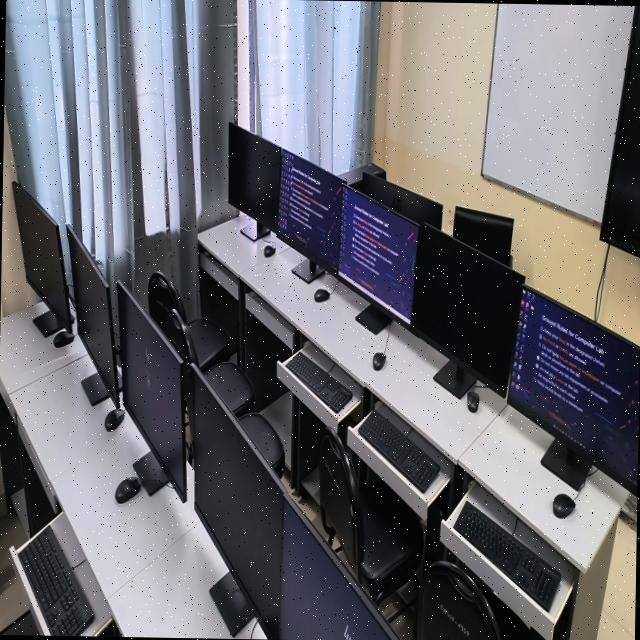Chair: (318, 428, 423, 604), (162, 308, 254, 417), (147, 271, 232, 372), (420, 560, 502, 640), (452, 206, 513, 266), (238, 412, 284, 477)
Digital board: (600, 5, 640, 257)
Keyboard: (453, 500, 559, 610), (18, 526, 93, 636), (359, 409, 439, 492), (286, 351, 352, 413)
Monitor: (68, 227, 186, 500), (507, 288, 640, 490), (188, 367, 282, 639), (407, 223, 525, 396), (279, 500, 392, 640), (116, 280, 186, 501), (66, 224, 123, 428), (338, 187, 417, 323), (12, 182, 72, 330), (67, 225, 117, 402), (277, 148, 342, 274), (228, 123, 281, 230), (360, 171, 442, 229), (81, 372, 109, 405), (81, 368, 102, 405), (81, 372, 102, 405), (546, 410, 567, 426)
Mouse: (115, 476, 141, 503), (552, 493, 575, 518), (104, 408, 124, 431), (53, 331, 74, 347), (466, 390, 479, 412), (372, 352, 385, 370), (313, 288, 330, 301), (263, 245, 275, 256)
